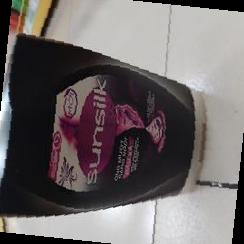sunsilk black: (2, 29, 205, 225)
